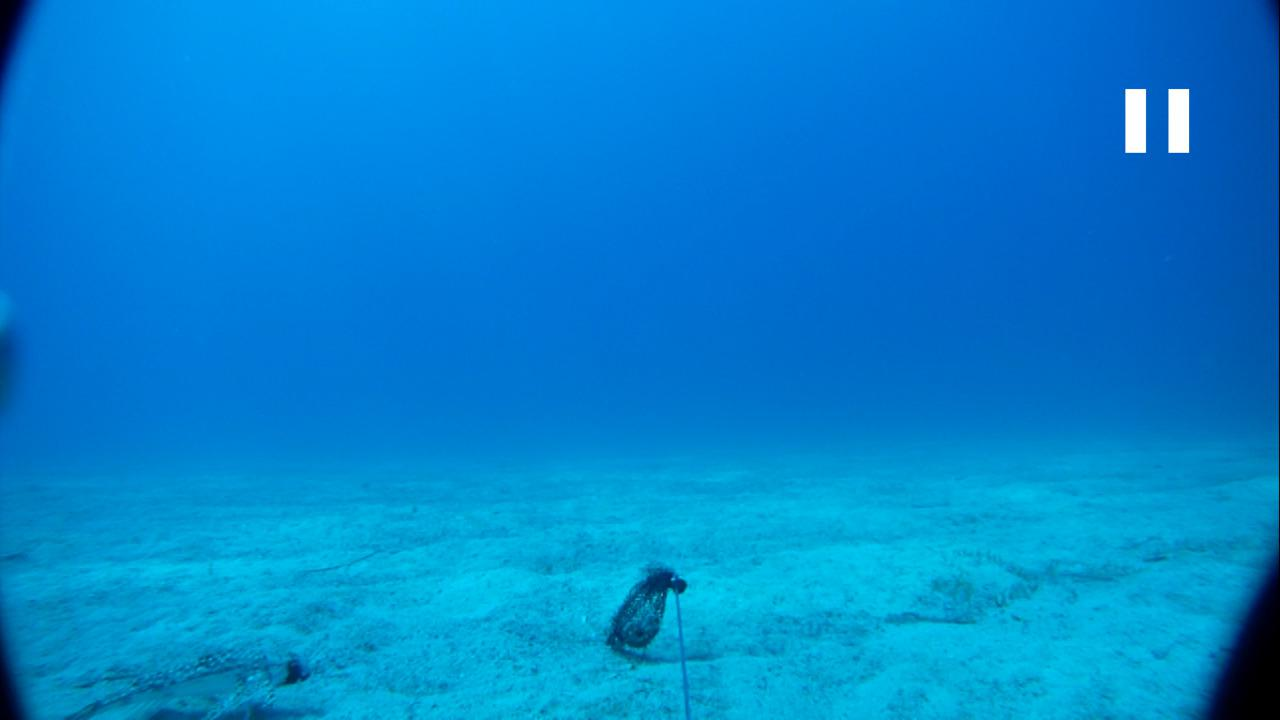dactylopterus: (62, 646, 313, 719)
